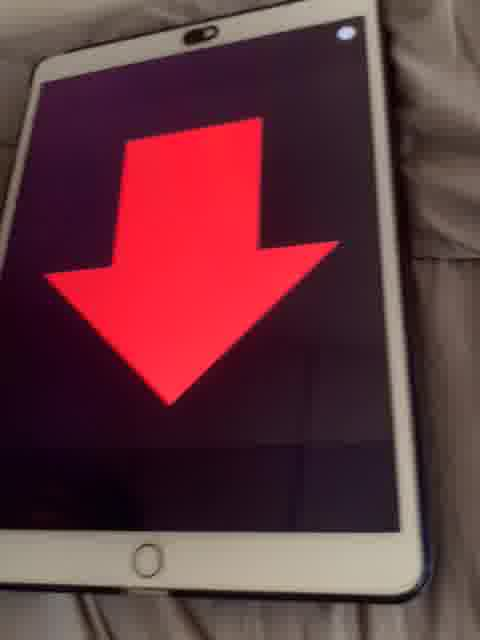down: (39, 108, 341, 408)
